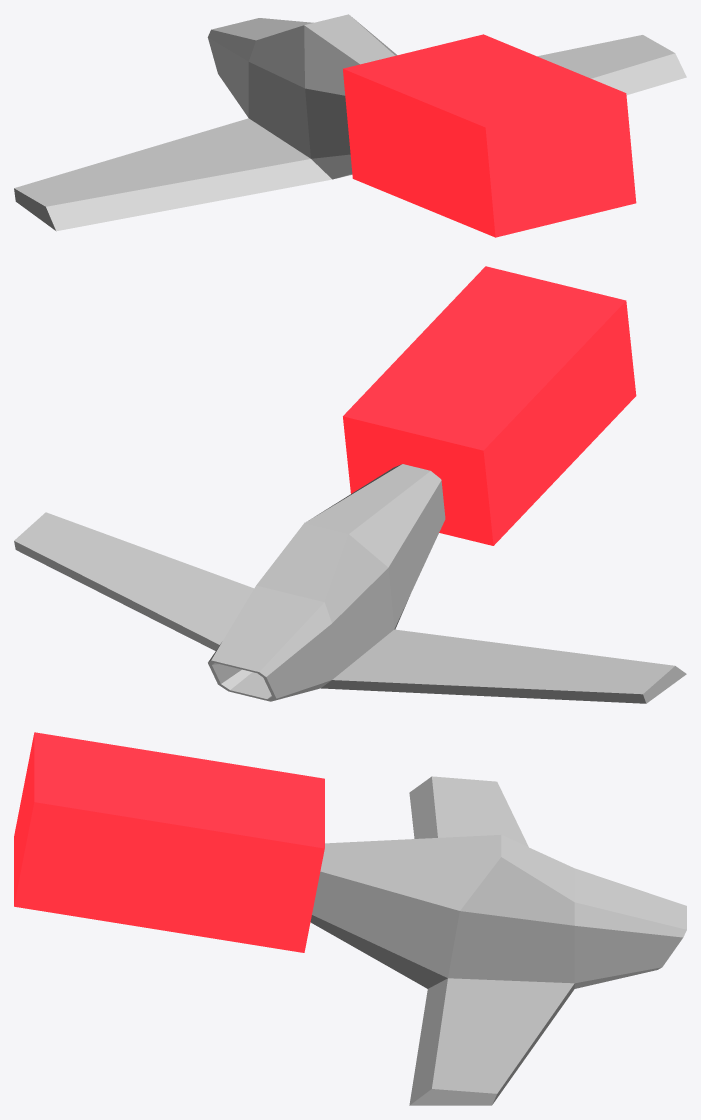
The model's file is plane_trainer.gltf.
3 views of the same model, one above another, from view 1: azimuth 30°, elevation 25°; view 2: azimuth 150°, elevation 25°; view 3: azimuth 270°, elevation 25° (orthographic).
Visible parts, largest first — view 1: lod0, TrainerPlane; view 2: TrainerPlane, lod0; view 3: TrainerPlane, lod0.
Part boxes in pixels (x1,y1,x2,y2): lod0: [343, 34, 636, 237]; TrainerPlane: [14, 14, 686, 231]; TrainerPlane: [14, 464, 686, 703]; lod0: [343, 266, 636, 545]; TrainerPlane: [310, 776, 686, 1105]; lod0: [14, 732, 324, 952].
Size of what is drawn, in the model's own units: 5.59 by 1.72 by 5.08.
